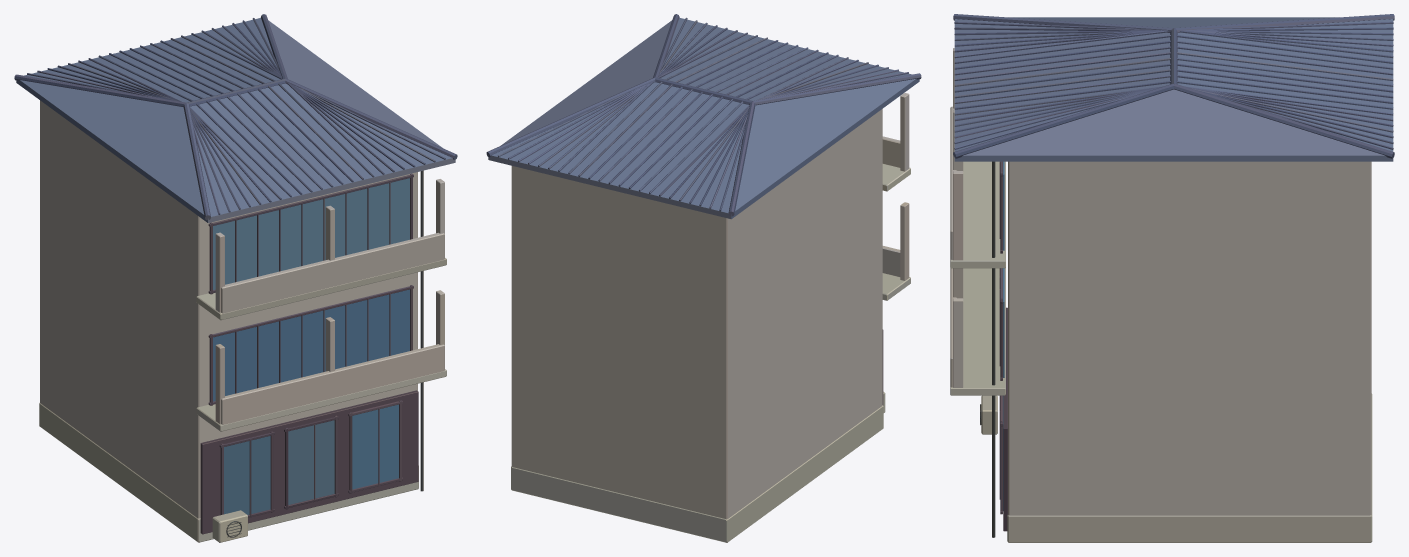
Rendered from ART_ThreeStorey.glb.
The picture shows the model from 3 angles, left to right: view 1: azimuth 30°, elevation 25°; view 2: azimuth 150°, elevation 25°; view 3: azimuth 270°, elevation 25°; orthographic projection. The views are drawn at different scales.
Parts seen in each view (by area): view 1: ART_ThreeStorey; view 2: ART_ThreeStorey; view 3: ART_ThreeStorey.
Boxes of the visible parts, x1=… form: ART_ThreeStorey: x1=14, y1=14, x2=457, y2=542; ART_ThreeStorey: x1=486, y1=14, x2=921, y2=542; ART_ThreeStorey: x1=950, y1=14, x2=1394, y2=542.
Size of the model in its own units: 6.89 by 9.69 by 9.18.
